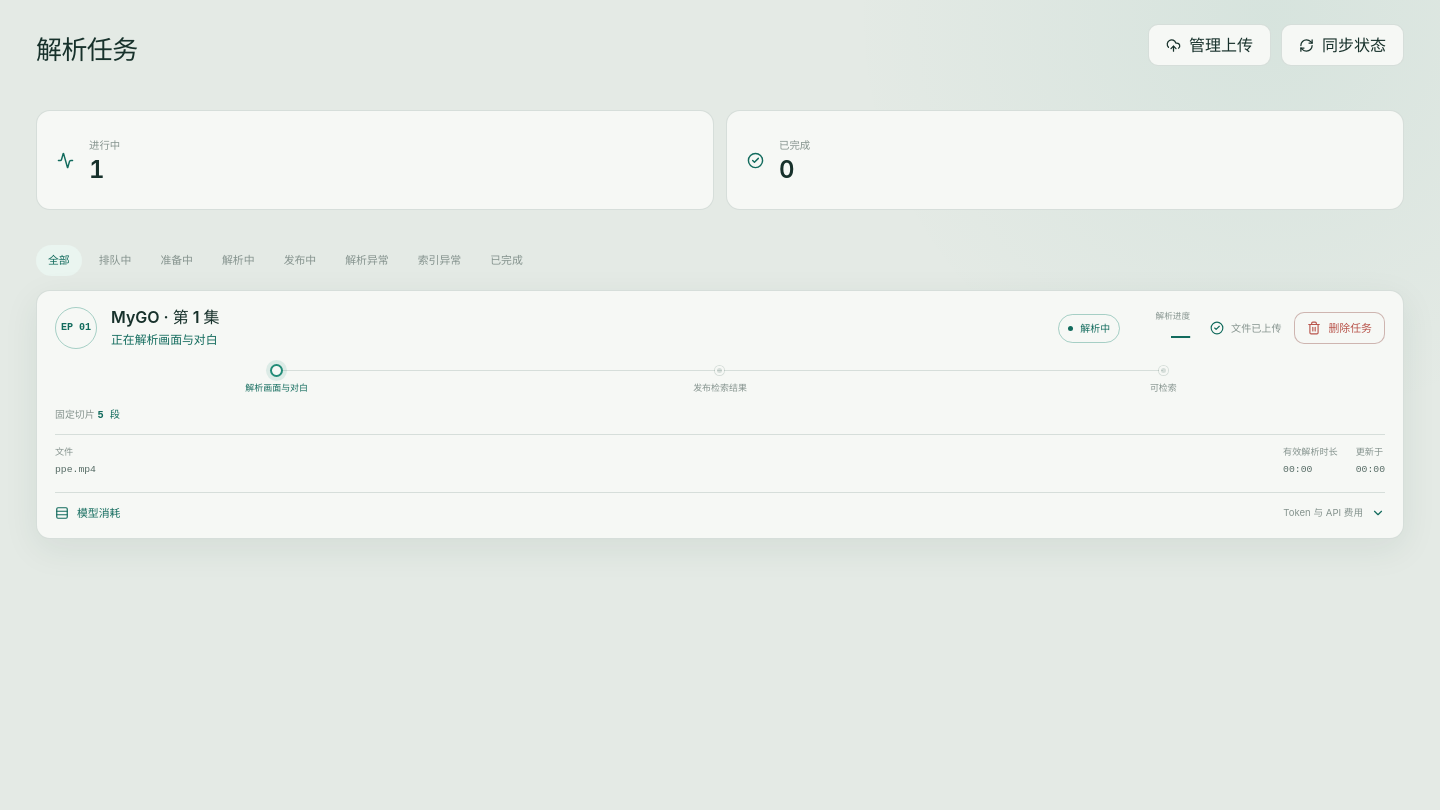
Test case: V2 task observation › loads PPE model usage for the actual V2 task only after expanding its panel
This screenshot has width=1440, height=810.
Click the heading "模型消耗 Token 与 API 费用" at {"x": 99, "y": 513}, box [55, 505, 1385, 522]
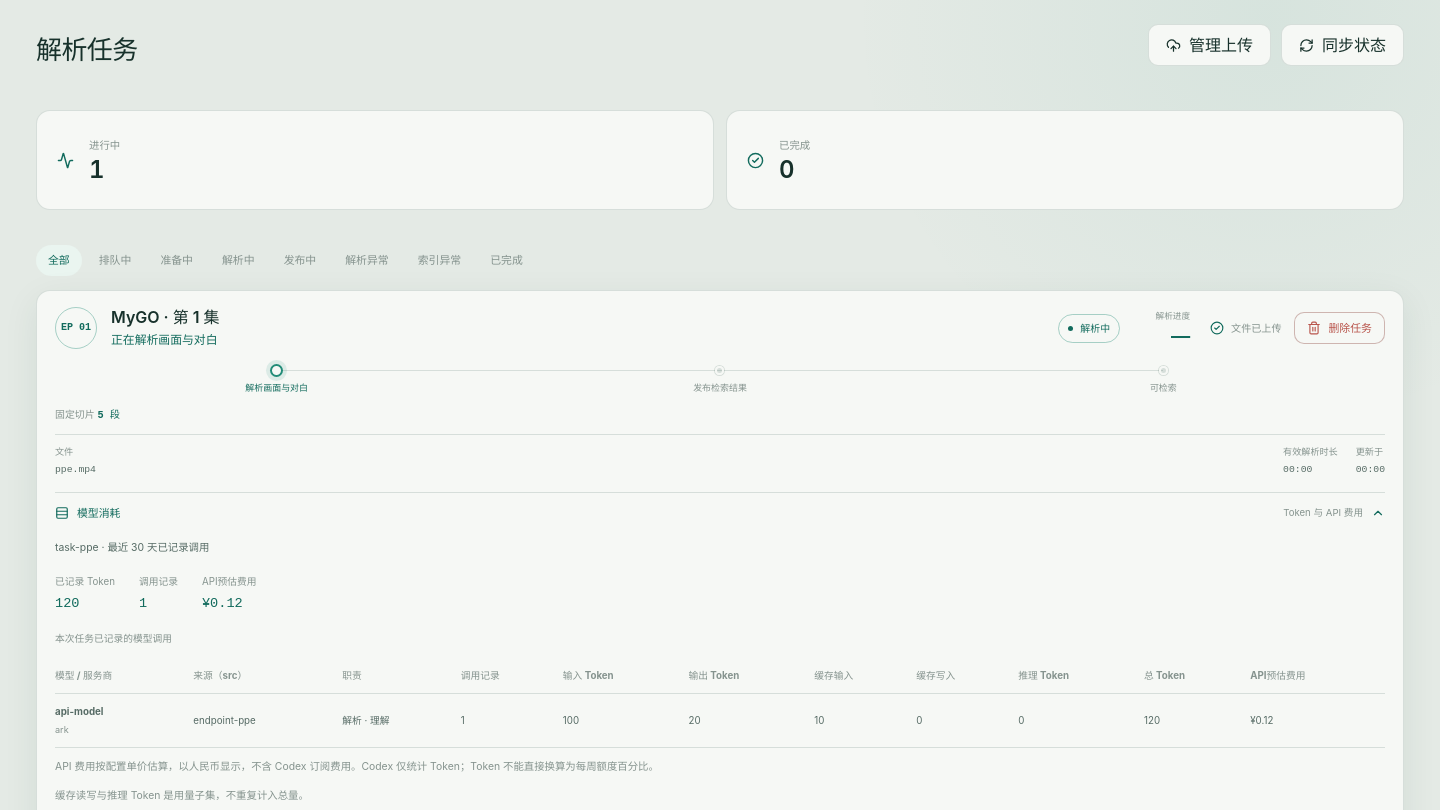
Expected: the text "endpoint-ppe" is shown, [193, 693, 342, 748]
Expected: the column heading "api-model" is shown, [55, 706, 104, 717]
Expected: the text "ark" is shown, [55, 724, 69, 735]
